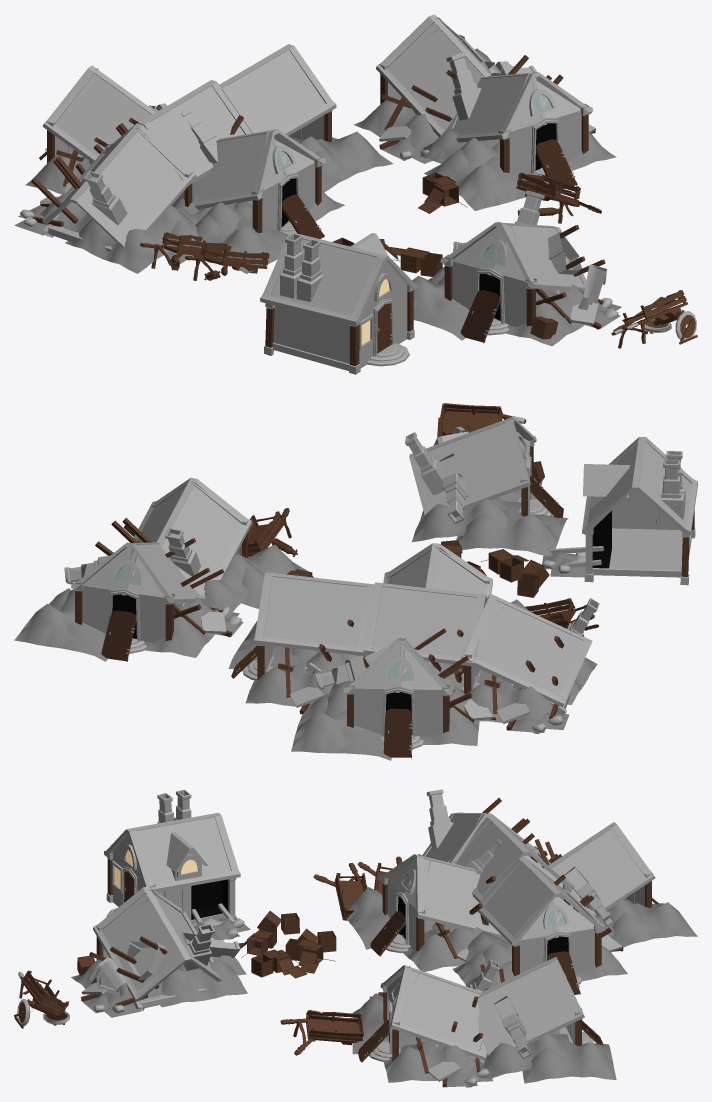
The model's file is Ruins.fbx.
3 renders of one model, top to bottom at view 1: azimuth 30°, elevation 25°; view 2: azimuth 150°, elevation 25°; view 3: azimuth 270°, elevation 25°, orthographic. The views are drawn at different scales.
Parts seen in each view (by area): view 1: Standard_Roof1 (×9), pPlane15 (×5), pCube41 (×4), pPlane14 (×5), pPlane16 (×3), pCube43 (×5), Wall (×4), Wall2 (×3), pCube40, pCube60, group3_Kennel_Roof1, pCube71 (+7 smaller); view 2: Standard_Roof1 (×9), pPlane15 (×5), pPlane14 (×4), pCube41 (×3), pPlane16 (×4), Stone_Foundation, Wall (×3), pCube43 (×3), Wall2 (×3), pCube45 (×2), pPlane5 (×2), pCube40 (+5 smaller); view 3: Standard_Roof1 (×9), pPlane15 (×6), pPlane16 (×4), pPlane14 (×4), pCube41 (×3), pCube43 (×3), pCube60, pCube45 (×3), pCube40, group3_Kennel_Roof1, pPlane10, pCube71 (+6 smaller).
Boxes of the visible parts, <box> form: Standard_Roof1 (×9): <box>42,14,593,325</box>; pPlane15 (×5): <box>166,131,548,340</box>; pCube41 (×4): <box>277,118,577,356</box>; pPlane14 (×5): <box>25,100,616,346</box>; pPlane16 (×3): <box>65,127,499,273</box>; pCube43 (×5): <box>84,52,544,298</box>; Wall (×4): <box>287,110,581,340</box>; Wall2 (×3): <box>262,125,542,309</box>; pCube40: <box>611,290,697,348</box>; pCube60: <box>516,172,601,223</box>; group3_Kennel_Roof1: <box>548,232,607,310</box>; pCube71: <box>185,243,269,280</box>; Standard_Roof1 (×9): <box>71,417,697,707</box>; pPlane15 (×5): <box>14,497,568,760</box>; pPlane14 (×4): <box>144,596,552,745</box>; pCube41 (×3): <box>101,455,563,758</box>; pPlane16 (×4): <box>204,499,597,716</box>; Stone_Foundation: <box>592,528,691,577</box>; Wall (×3): <box>138,491,642,734</box>; pCube43 (×3): <box>165,432,684,576</box>; Wall2 (×3): <box>82,495,679,733</box>; pCube45 (×2): <box>314,453,468,689</box>; pPlane5 (×2): <box>83,542,399,689</box>; pCube40: <box>440,403,526,435</box>; Standard_Roof1 (×9): <box>93,812,655,1060</box>; pPlane15 (×6): <box>340,887,697,1083</box>; pPlane16 (×4): <box>160,899,648,1078</box>; pPlane14 (×4): <box>71,924,627,1082</box>; pCube41 (×3): <box>358,891,580,1062</box>; pCube43 (×3): <box>183,789,499,991</box>; pCube60: <box>280,1010,363,1055</box>; pCube45 (×3): <box>180,867,614,1059</box>; pCube40: <box>14,970,69,1028</box>; group3_Kennel_Roof1: <box>89,941,166,996</box>; pPlane10: <box>191,879,228,919</box>; pCube71: <box>313,863,367,920</box>.
Bounding box in the file's own units: 2431 × 567 × 3025.
